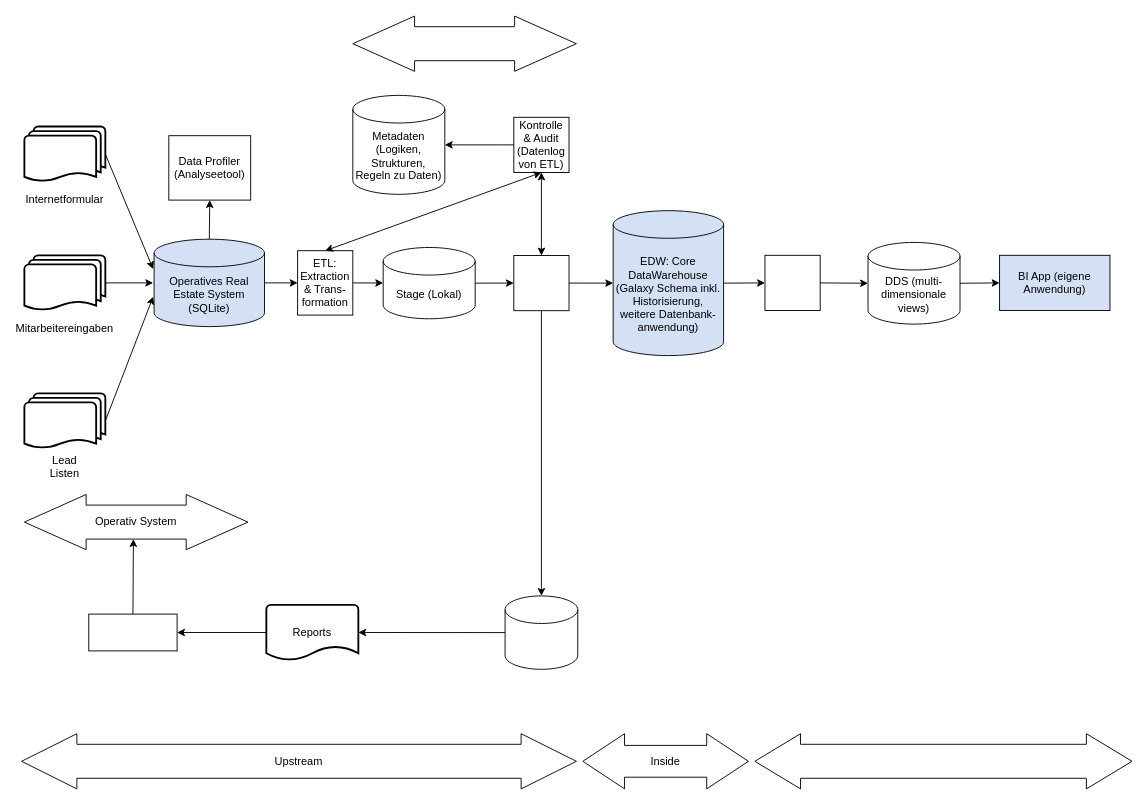
Image size: 1148x805. Some labels were removed from this diagram. The shapes that lost their labels are listed below. From the top down, each one's centre as x and y in pixels, then its label:
(x=464, y=43): Kontroll-System ETL Prozess
(x=541, y=283): DQ + ETL: Load
(x=792, y=282): ETL
(x=132, y=632): Korrekturen in Quellsystemen
(x=541, y=632): Bad Data from DQ
(x=943, y=761): Downstream
